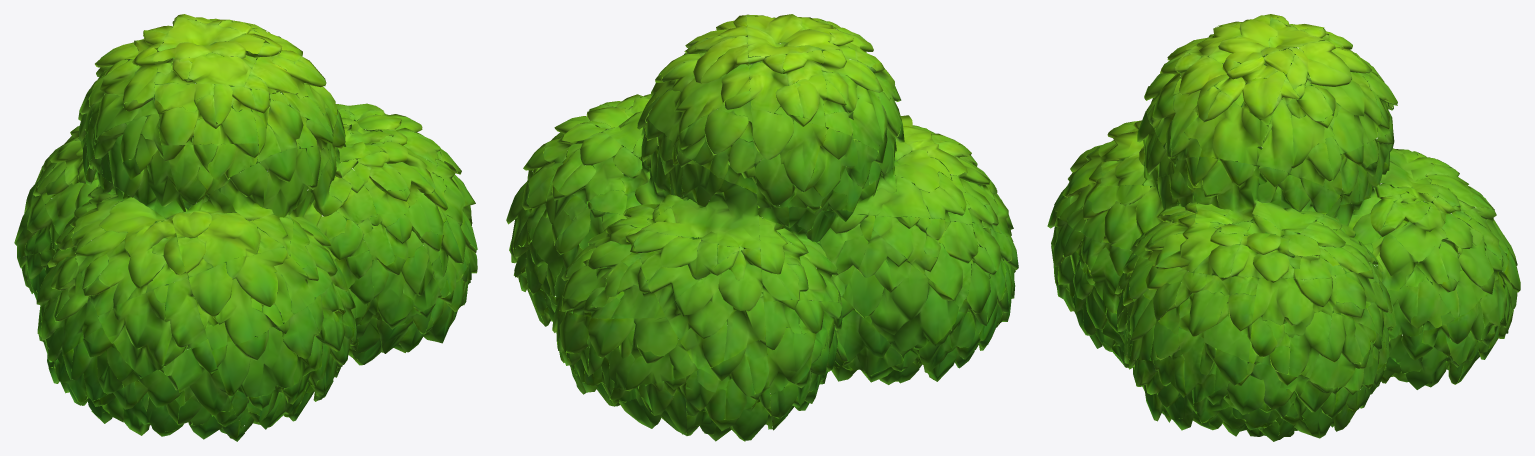
Rendered from neon-leaves.glb.
The picture shows the model from 3 angles, left to right: view 1: azimuth 30°, elevation 25°; view 2: azimuth 150°, elevation 25°; view 3: azimuth 270°, elevation 25°; orthographic projection. The views are drawn at different scales.
Visible parts, largest first — view 1: mesh_node; view 2: mesh_node; view 3: mesh_node.
Boxes of the visible parts, <box> form: mesh_node: <box>14,14,477,441</box>; mesh_node: <box>506,14,1018,441</box>; mesh_node: <box>1047,14,1520,441</box>.
Size of the model in its own units: 1.91 by 1.52 by 1.86.
Materials: 1 (1 with a texture image).
